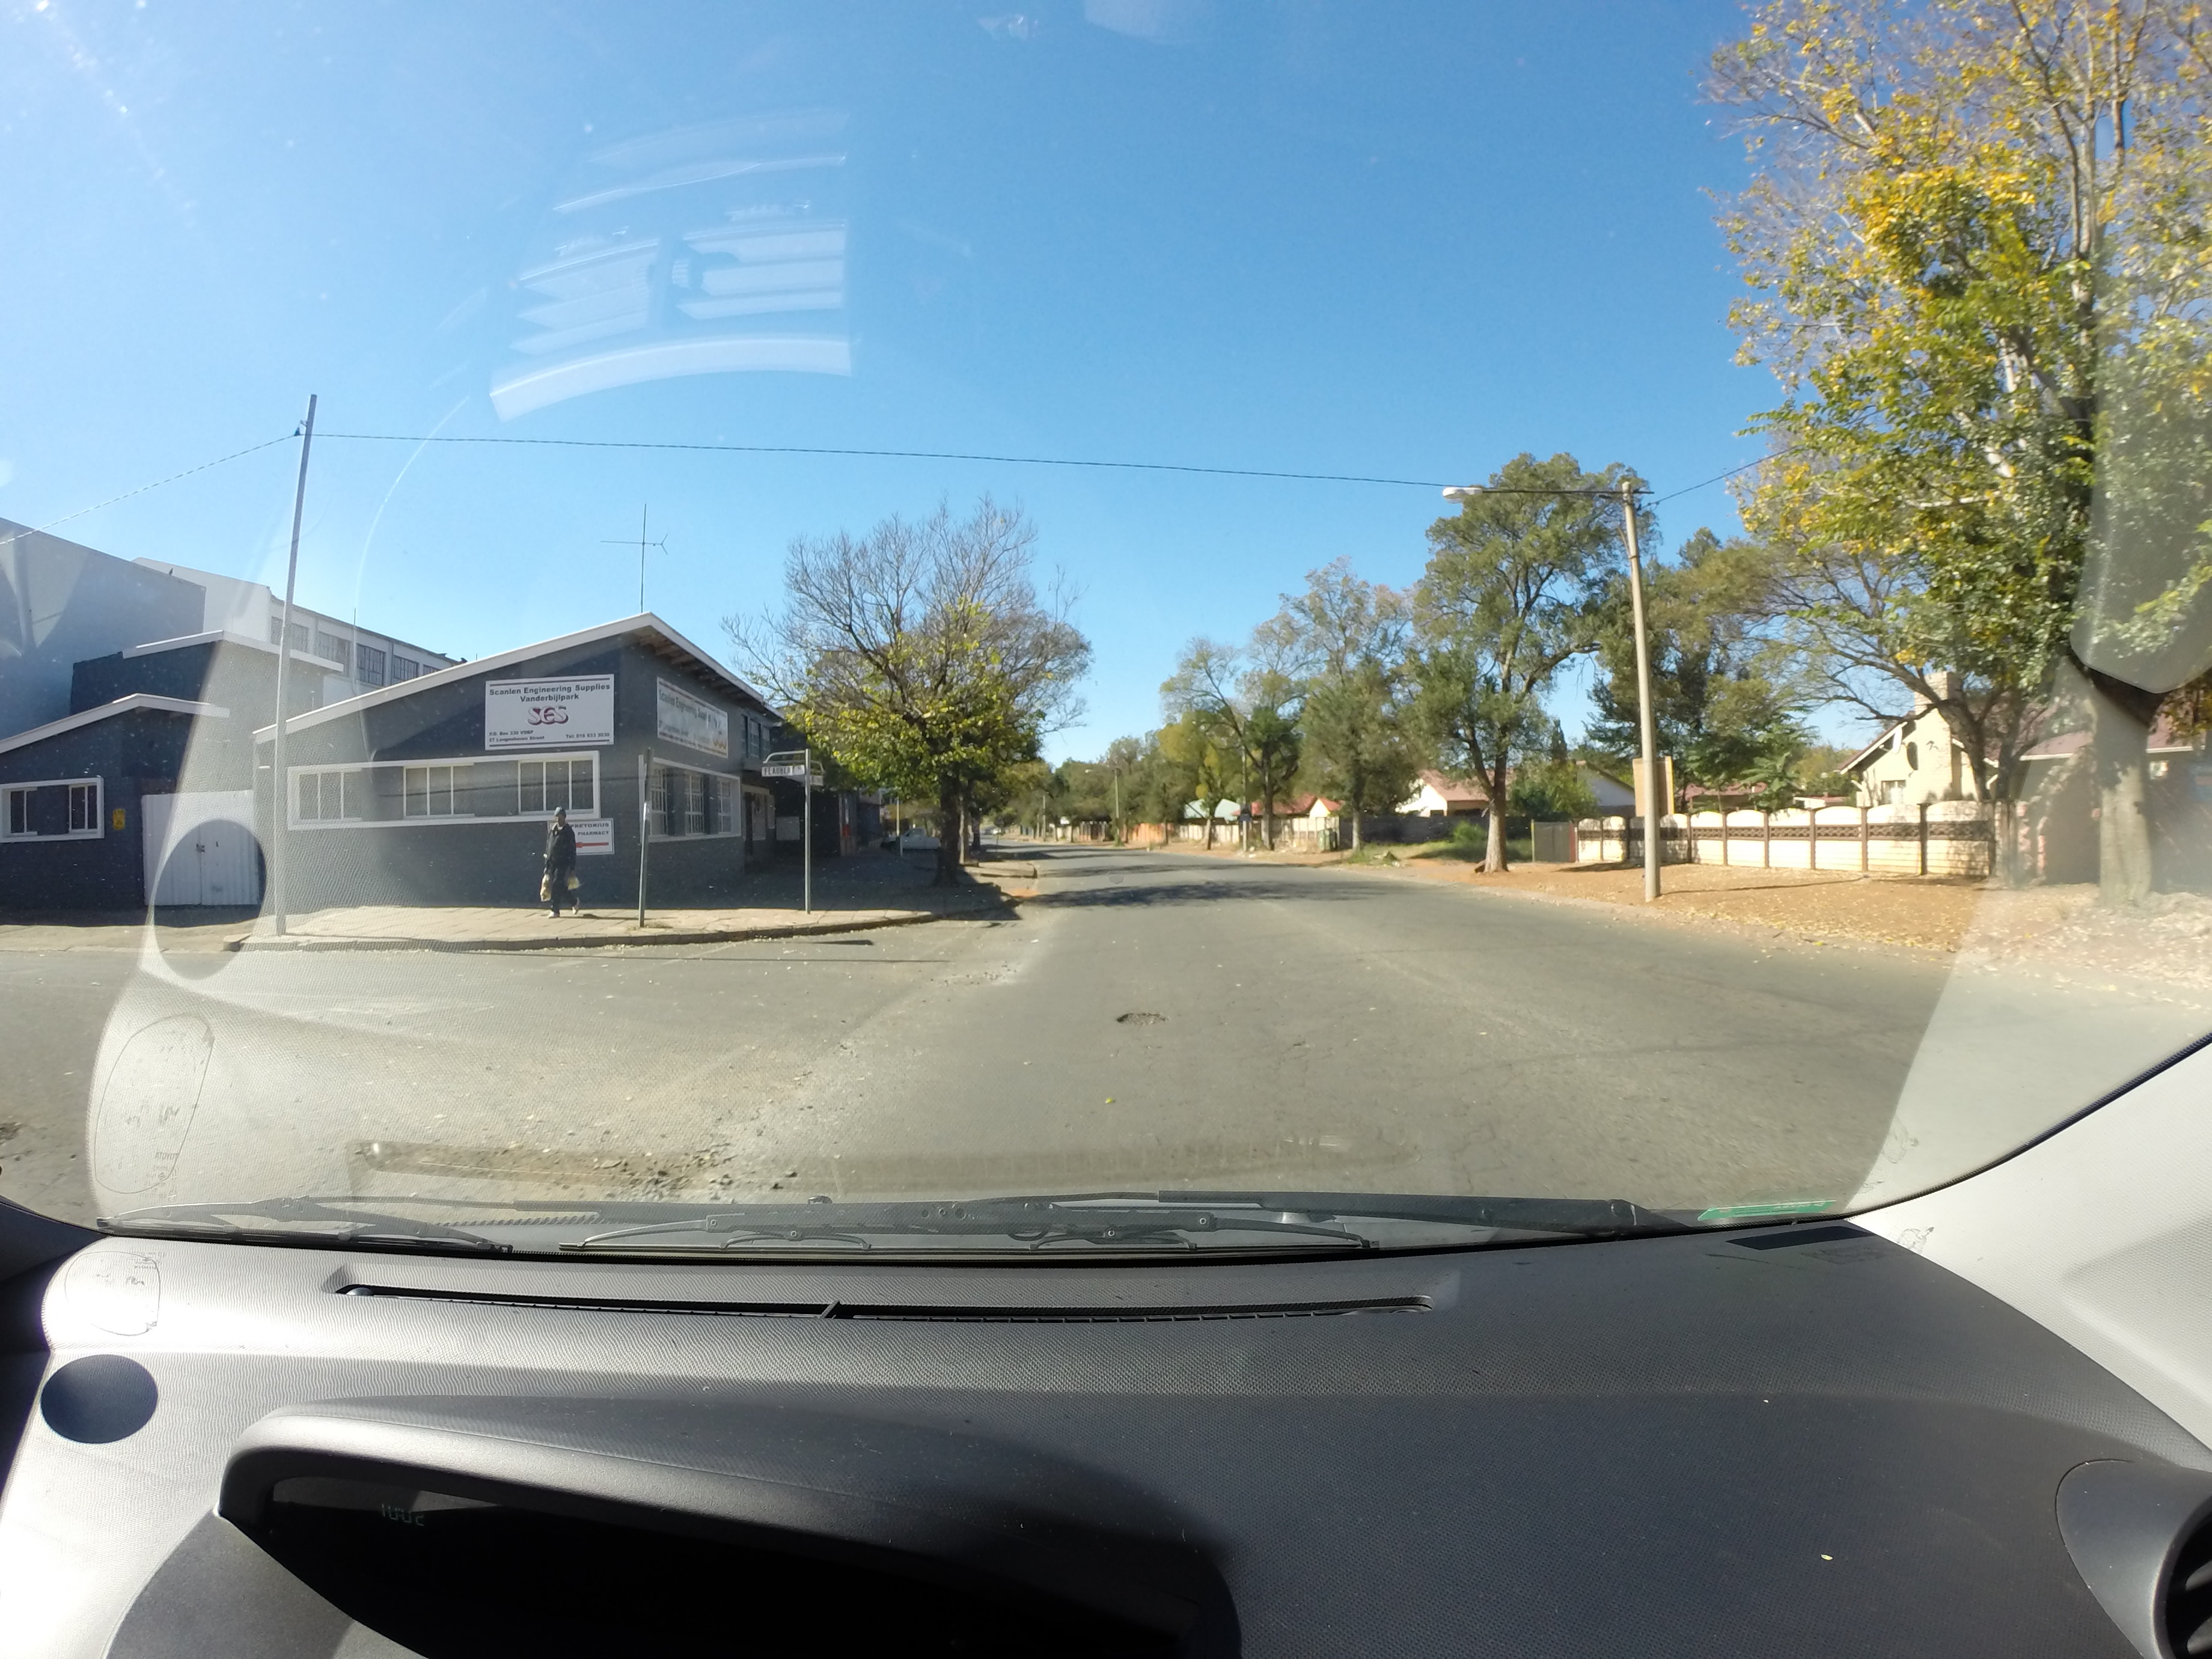pothole: (1069, 983, 1228, 1070)
